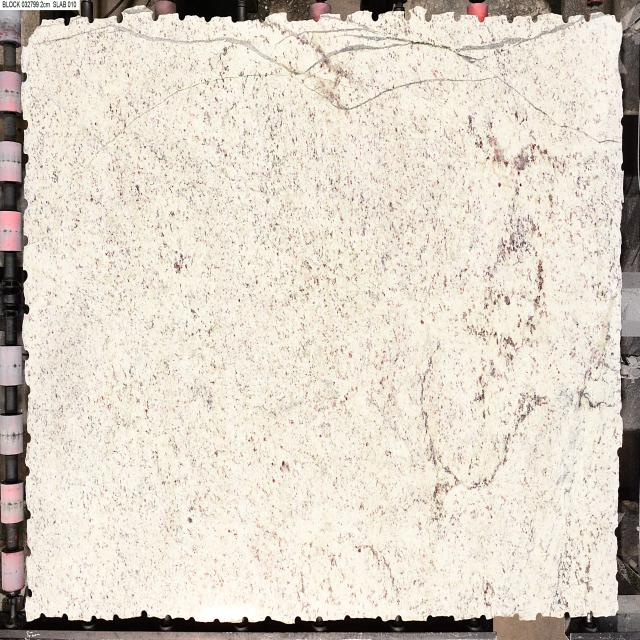chapa: (22, 8, 622, 623)
